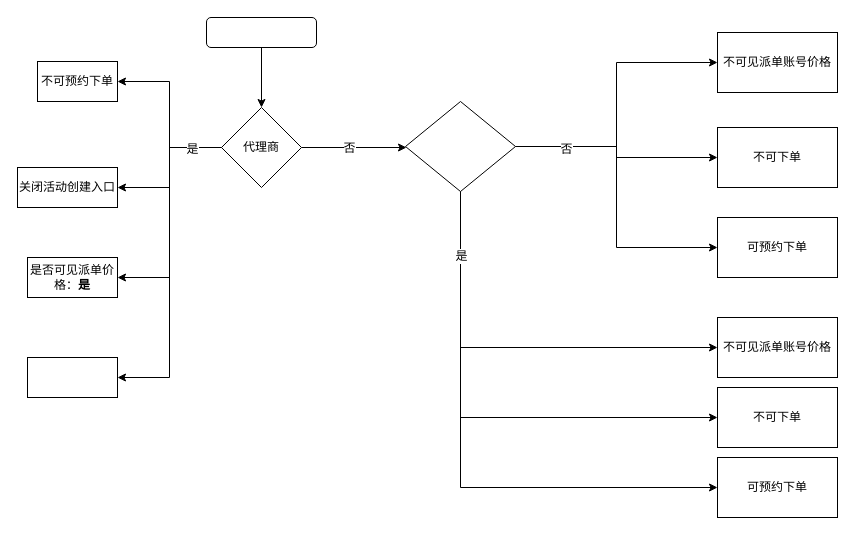
This 855x535 diagram has some shape labels left out. The centre of each missing label's shape, as x and y in pixels:
"A端登录" goes at pixel 261 32.
"可导出报价单： 是" goes at pixel 72 377.
"派单价格是否可见" goes at pixel 460 146.
